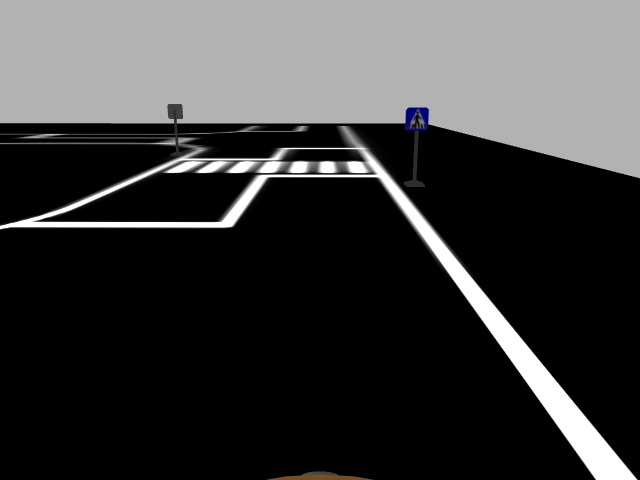crosswalk: (403, 104, 431, 133)
